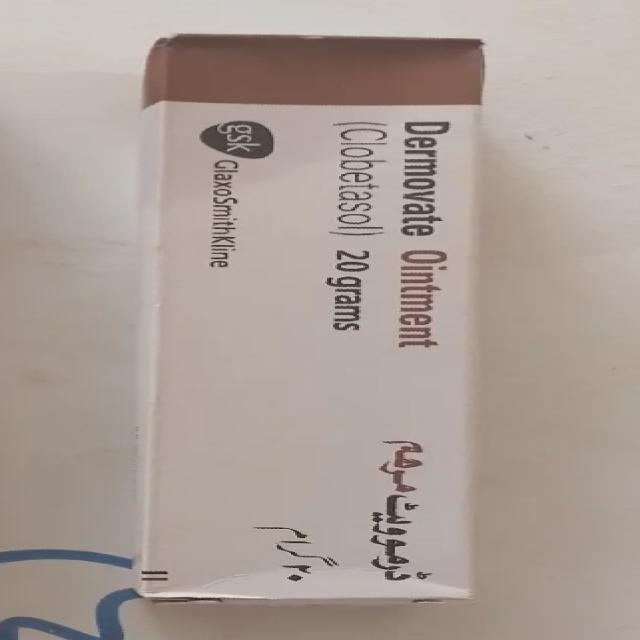drug-name: (399, 116, 454, 354)
